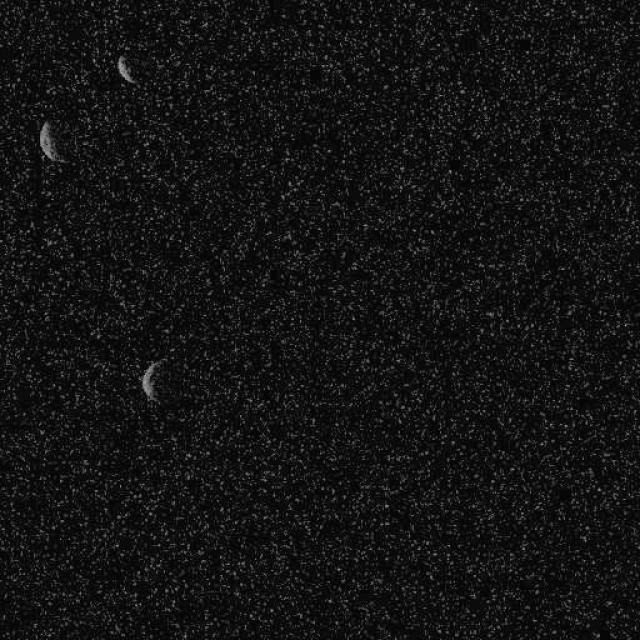D2: (38, 117, 72, 165), (140, 356, 170, 404), (115, 53, 139, 85)
